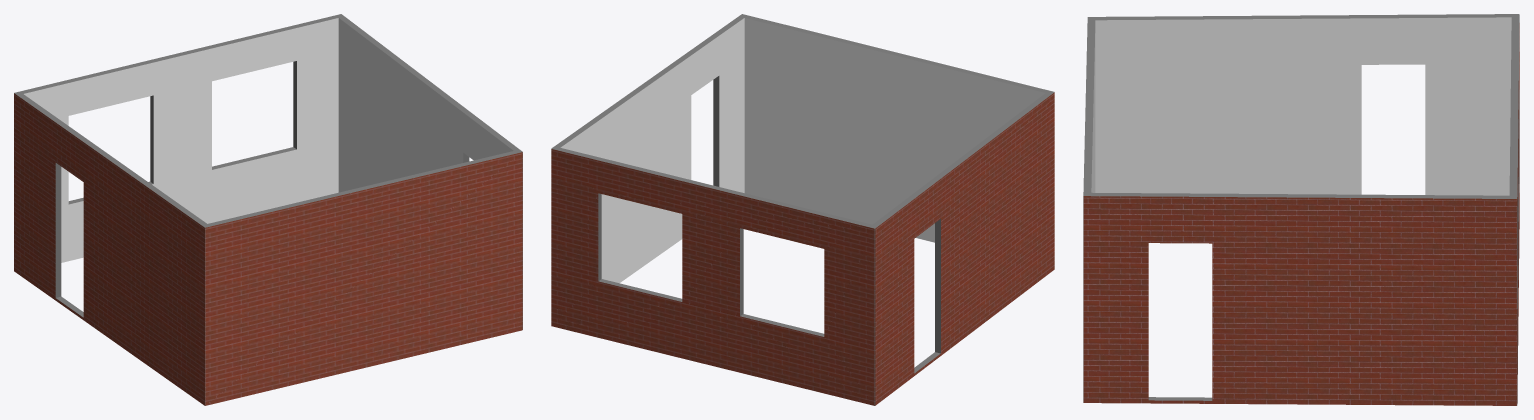
3 views of the same model, side by side, from view 1: azimuth 30°, elevation 25°; view 2: azimuth 150°, elevation 25°; view 3: azimuth 270°, elevation 25° (orthographic). The views are drawn at different scales.
Parts seen in each view (by area): view 1: WallOutside#0_0_2, WallOutside#0_0_3, WallInside#0_0_0, WallInside#0_0_1, WallOutside#0_0_0, WallInside#0_0_3, WallOutside#0_0_1, WallInside#0_0_2; view 2: WallOutside#0_0_0, WallInside#0_0_2, WallOutside#0_0_3, WallInside#0_0_1, WallInside#0_0_0, WallInside#0_0_3, WallOutside#0_0_1, WallOutside#0_0_2; view 3: WallOutside#0_0_1, WallInside#0_0_3, WallOutside#0_0_0, WallInside#0_0_2, WallInside#0_0_1, WallOutside#0_0_2, WallOutside#0_0_3, WallInside#0_0_0.
Boxes of the visible parts, <box> form: WallOutside#0_0_2: <box>204,151,522,405</box>; WallOutside#0_0_3: <box>14,92,205,405</box>; WallInside#0_0_0: <box>19,15,342,262</box>; WallInside#0_0_1: <box>336,15,519,192</box>; WallOutside#0_0_0: <box>14,14,341,202</box>; WallInside#0_0_3: <box>17,91,209,314</box>; WallOutside#0_0_1: <box>340,14,522,329</box>; WallInside#0_0_2: <box>202,151,516,226</box>; WallOutside#0_0_0: <box>551,148,875,405</box>; WallInside#0_0_2: <box>740,15,1051,242</box>; WallOutside#0_0_3: <box>874,91,1054,405</box>; WallInside#0_0_1: <box>555,15,746,283</box>; WallInside#0_0_0: <box>553,146,877,335</box>; WallInside#0_0_3: <box>870,92,1047,369</box>; WallOutside#0_0_1: <box>551,14,743,185</box>; WallOutside#0_0_2: <box>741,14,1052,93</box>; WallOutside#0_0_1: <box>1083,194,1516,405</box>; WallInside#0_0_3: <box>1093,15,1518,195</box>; WallOutside#0_0_0: <box>1513,14,1519,405</box>; WallInside#0_0_2: <box>1087,17,1095,195</box>; WallInside#0_0_1: <box>1084,192,1516,399</box>; WallOutside#0_0_2: <box>1083,17,1091,402</box>; WallOutside#0_0_3: <box>1095,14,1518,18</box>; WallInside#0_0_0: <box>1509,14,1515,198</box>.
Bounding box in the file's own units: 5.25 × 2.73 × 5.23.
Materials: 12 (8 with a texture image).
